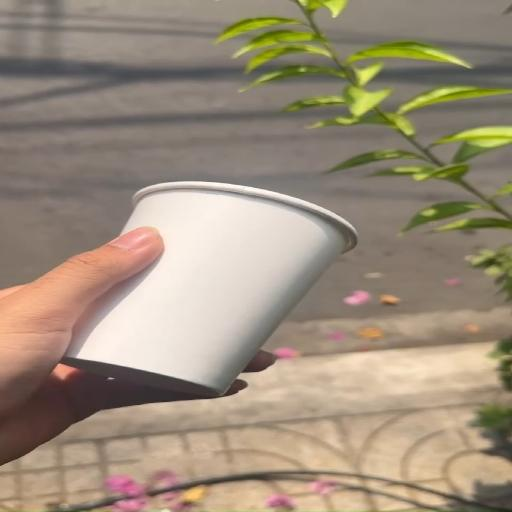Ly_giay: (62, 181, 356, 396)
